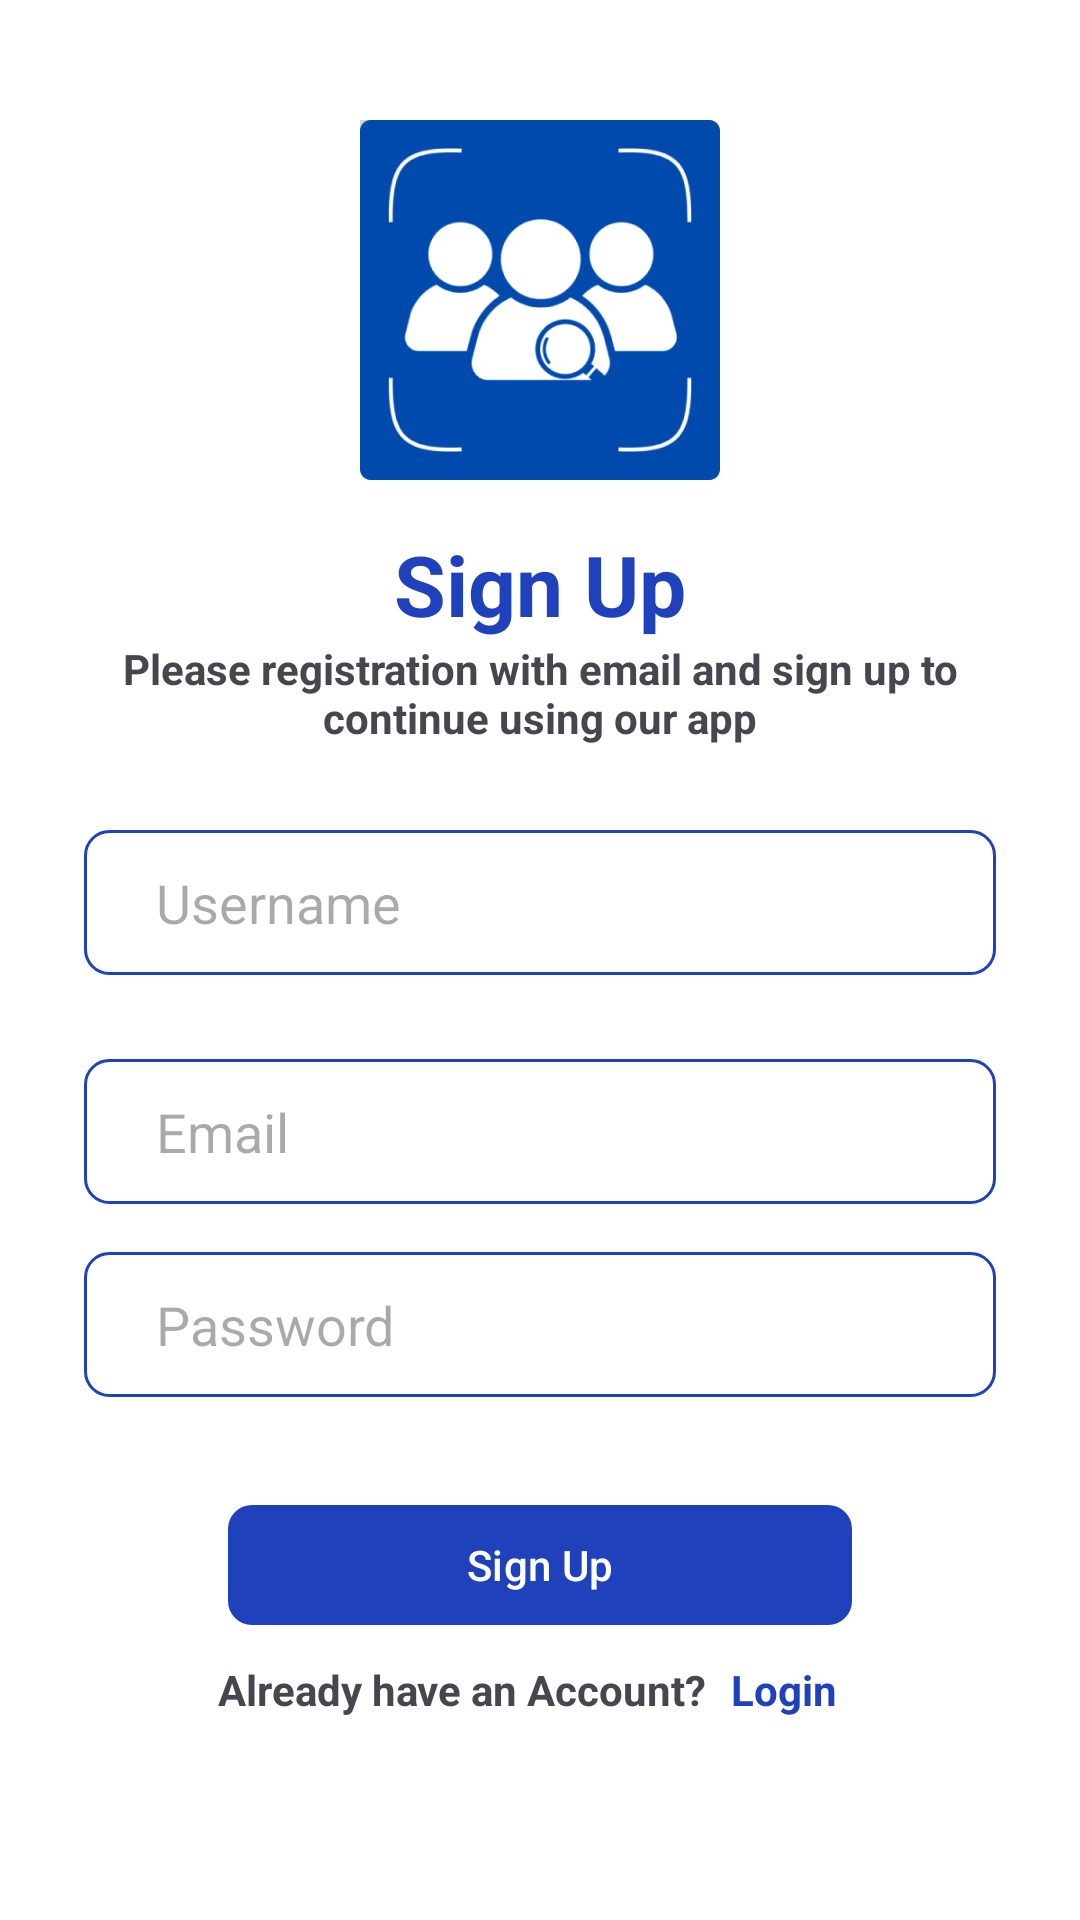

Icon bounding boxes for this 1080x1920 phone screenshot, format (x1,y1,x2,y2):
joblense: (360,120,720,480)
